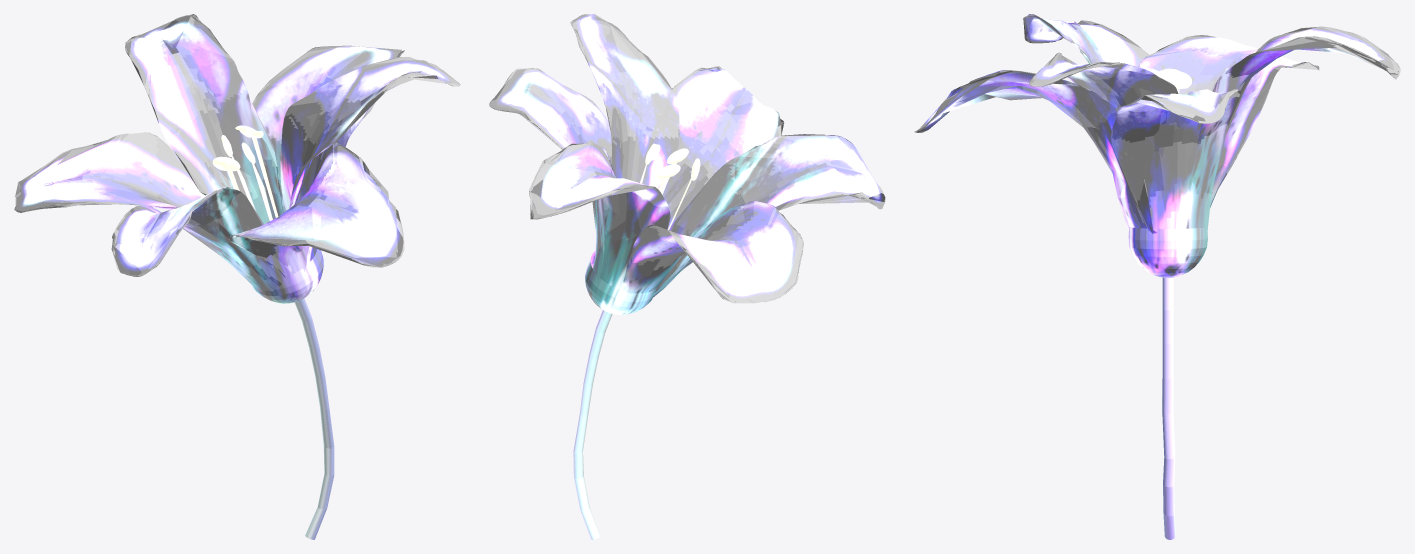
Rendered from oneLys.glb.
The picture shows the model from 3 angles, left to right: view 1: azimuth 30°, elevation 25°; view 2: azimuth 150°, elevation 25°; view 3: azimuth 270°, elevation 25°; orthographic projection. The views are drawn at different scales.
Parts seen in each view (by area): view 1: Sphere.016; view 2: Sphere.016; view 3: Sphere.016.
Part boxes in pixels (x1,y1,x2,y2): Sphere.016: [14, 14, 460, 539]; Sphere.016: [489, 14, 885, 539]; Sphere.016: [914, 14, 1400, 539].
Bounding box in the file's own units: 17.45 × 24 × 20.99.
